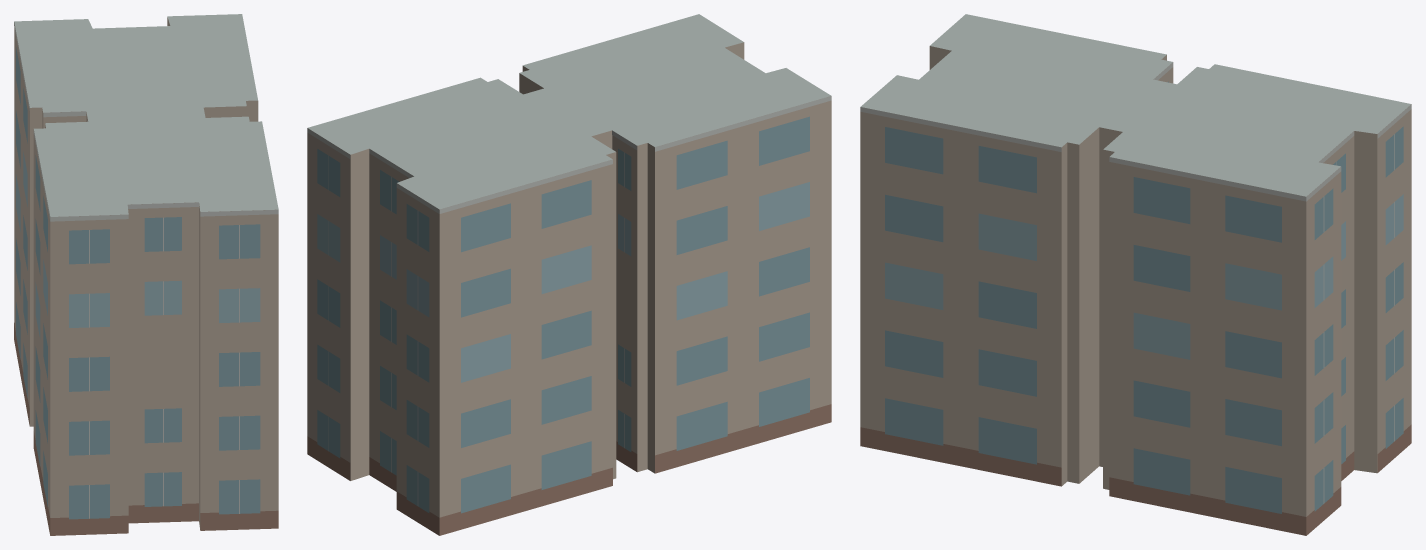
File: survey-upis-33041693.glb
3 renders of one model, left to right at view 1: azimuth 30°, elevation 25°; view 2: azimuth 150°, elevation 25°; view 3: azimuth 270°, elevation 25°, orthographic. The views are drawn at different scales.
Parts seen in each view (by area): view 1: survey-upis-33041693.tmp; view 2: survey-upis-33041693.tmp; view 3: survey-upis-33041693.tmp.
Part boxes in pixels (x1,y1,x2,y2): survey-upis-33041693.tmp: [14, 14, 278, 535]; survey-upis-33041693.tmp: [307, 14, 831, 535]; survey-upis-33041693.tmp: [860, 14, 1411, 535].
Size of the model in its own units: 19.69 by 17.04 by 25.1.
